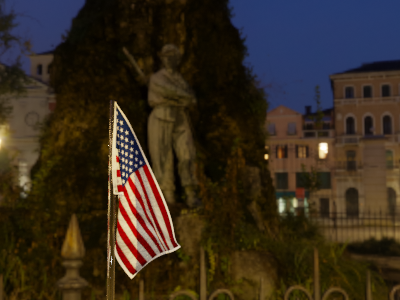America flag: (112, 100, 183, 280)
